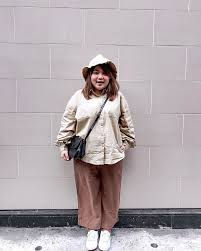people: (57, 56, 135, 251)
